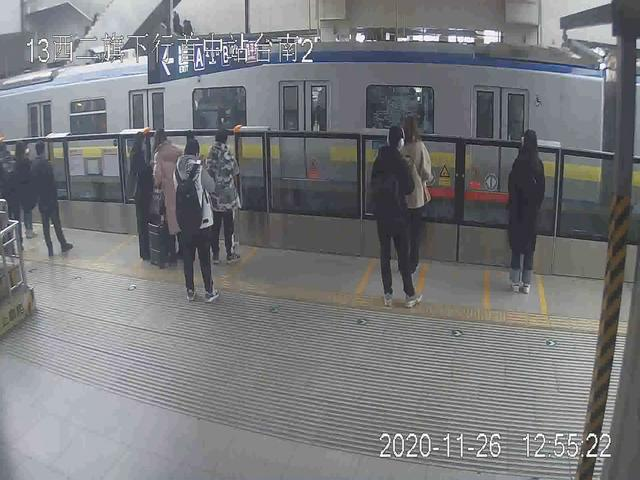person: (365, 125, 418, 308), (501, 128, 545, 302), (178, 136, 220, 303), (207, 128, 246, 263), (397, 117, 432, 264), (151, 127, 186, 262), (32, 141, 73, 255), (125, 133, 158, 260)
